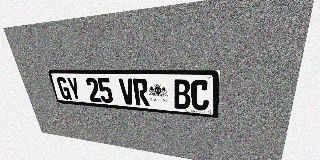2: (85, 77, 102, 102)
5: (97, 78, 114, 103)
B: (173, 79, 191, 109)
C: (191, 80, 209, 111)
G: (56, 77, 72, 100)
R: (132, 78, 150, 106)
V: (118, 78, 136, 105)
Y: (66, 77, 82, 101)
